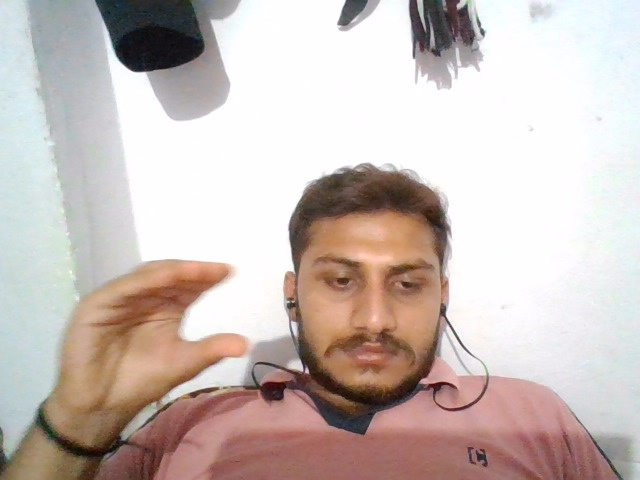No: (54, 245, 261, 423)
